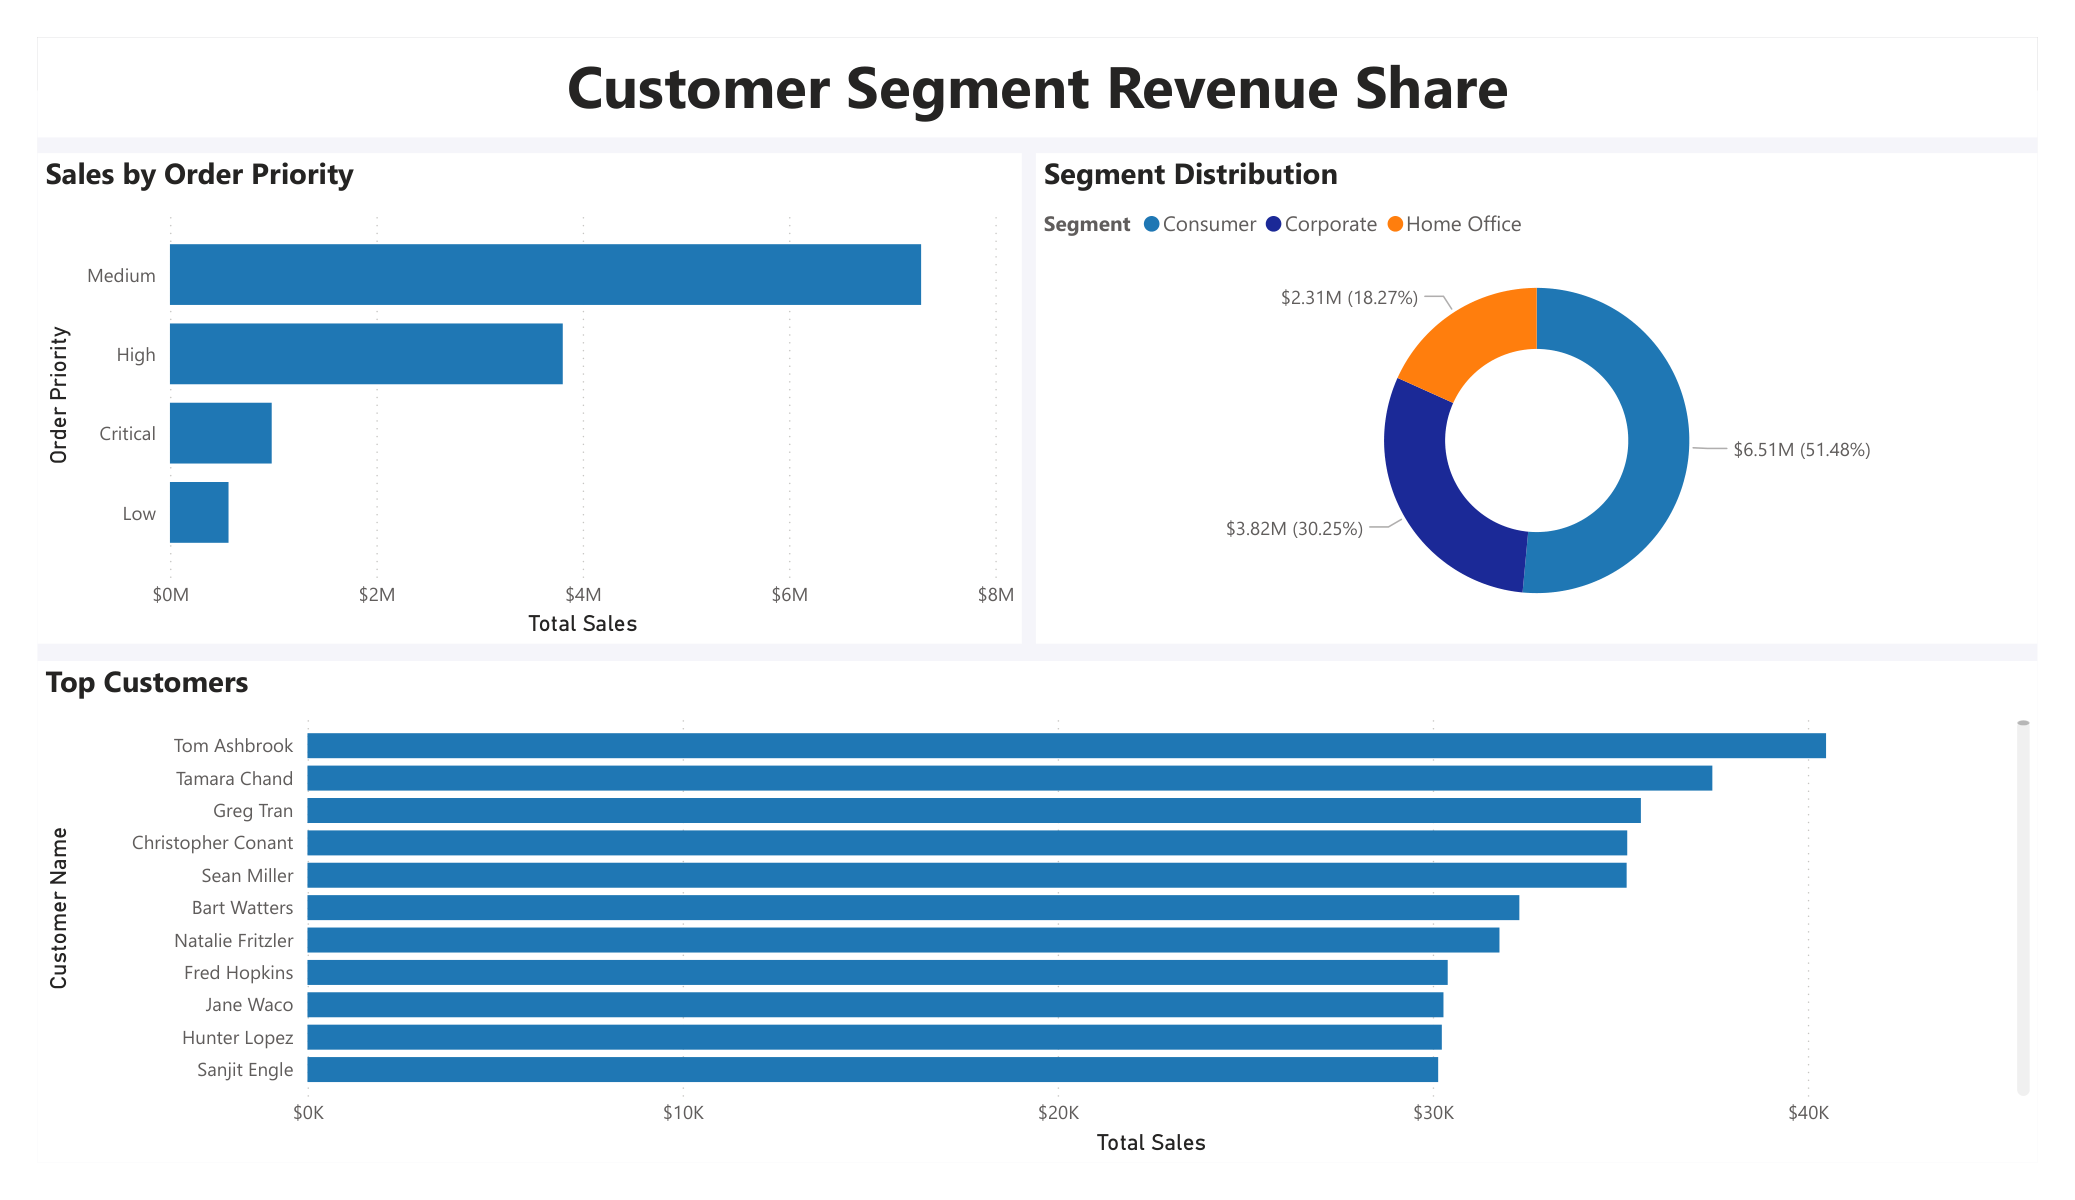

What the dashboard file says about the page in this screenshot:
{"tool":"powerbi","page":{"name":"Customer Insights","canvas":[1280,720],"ordinal":3},"visuals":[{"type":"clusteredBarChart","title":"Top Customers","fields":{"Category":["Global_Superstore2.Customer Name"],"Y":["DateTable.Total Sales"]},"box":[0,399.3,1280.3,321.1],"z":0},{"type":"donutChart","title":"Segment Distribution","fields":{"Category":["Global_Superstore2.Segment"],"Y":["DateTable.Total Sales"]},"box":[639.5,74.1,640.8,314.2],"z":1000},{"type":"clusteredBarChart","title":"Sales by Order Priority","fields":{"Category":["Global_Superstore2.Order Priority"],"Y":["DateTable.Total Sales"]},"box":[0,74.1,629.8,314.2],"z":2000},{"type":"textbox","box":[0,0,1280.3,64.5],"z":8000}]}

Visuals, with their boxes on the page's 1280x720 design canvas (x1, y1, x2, y2). These are canvas units, not pixel positions in the 2075x1200 screenshot, which may show the page scaled, cropped or inside an application window:
"Top Customers" clusteredBarChart: x1=0, y1=399, x2=1280, y2=720
"Segment Distribution" donutChart: x1=640, y1=74, x2=1280, y2=388
"Sales by Order Priority" clusteredBarChart: x1=0, y1=74, x2=630, y2=388
textbox: x1=0, y1=0, x2=1280, y2=64
